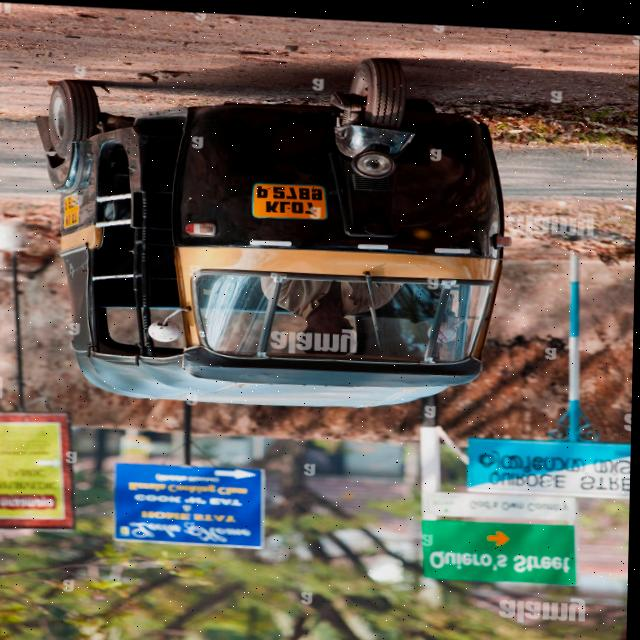plate: (249, 171, 328, 223)
